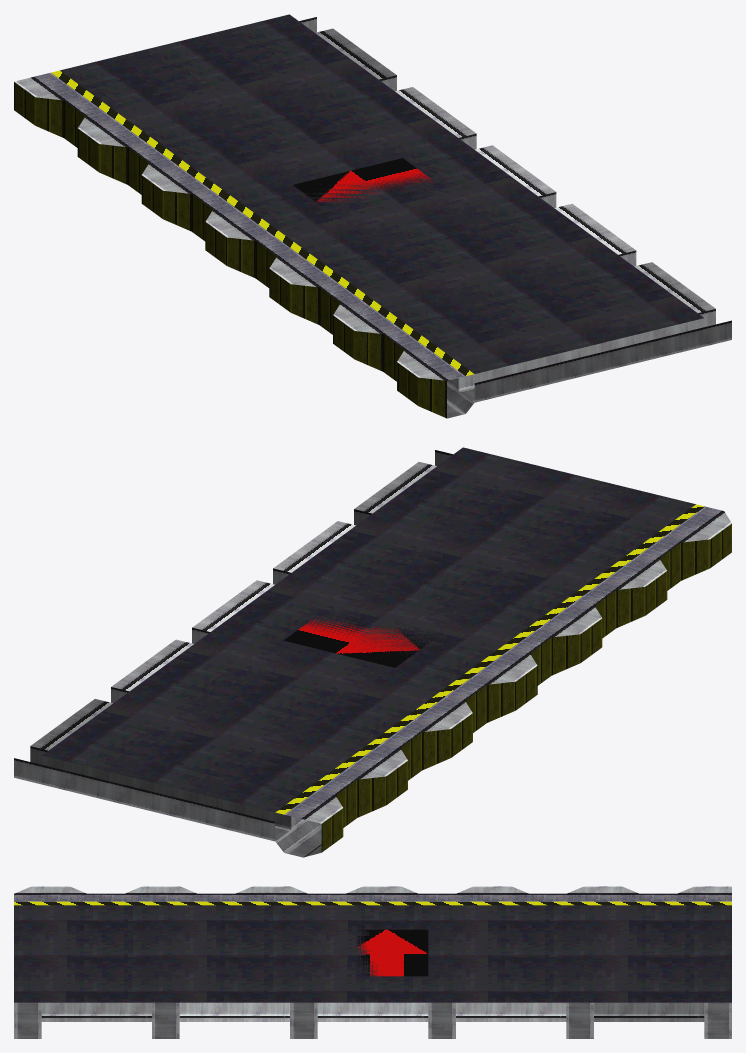
Rendered from primary_086.glb.
3 renders of one model, top to bottom at view 1: azimuth 30°, elevation 25°; view 2: azimuth 150°, elevation 25°; view 3: azimuth 270°, elevation 25°, orthographic. The views are drawn at different scales.
Visible parts, largest first — view 1: Object; view 2: Object; view 3: Object.
Part boxes in pixels (x1,y1,x2,y2): Object: [14, 14, 731, 418]; Object: [14, 447, 731, 857]; Object: [14, 886, 731, 1038].
Size of the model in its own units: 4.58 by 0.5446 by 10.86.
20 materials, 20 textured.
